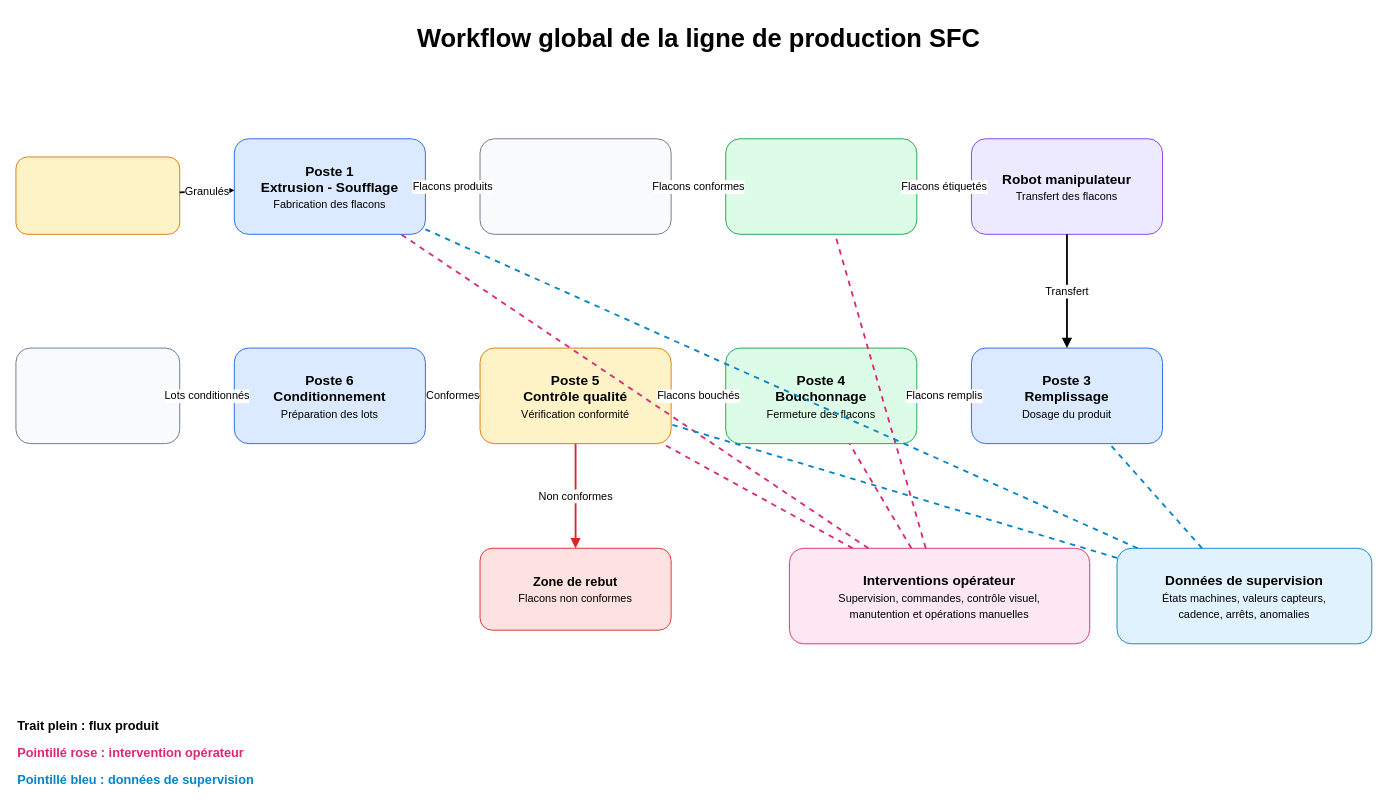
Image size: 1388x809. Some labels were removed from this diagram. The centre of each missing label's shape, as x and y in pixels:
Matière première Granulés PEHD: [97,195]
Poste 2 Étiquetage Opération manuelle / pédagogique: [821,186]
Stockage final Produits conformes: [97,395]
Stockage intermédiaire Flacons avec contrôle visuel: [575,186]
